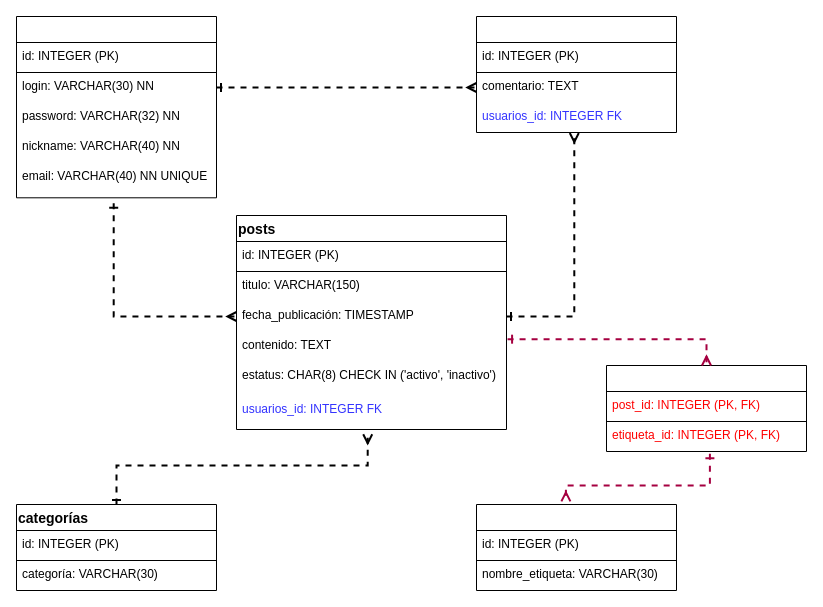
This 823x607 diagram has some shape labels left out. Each missing label, with the box of its shape:
comentarios: (476, 16, 676, 132)
etiquetas: (476, 504, 676, 590)
post_etiquetas: (606, 364, 806, 452)
usuarios: (16, 16, 216, 198)
